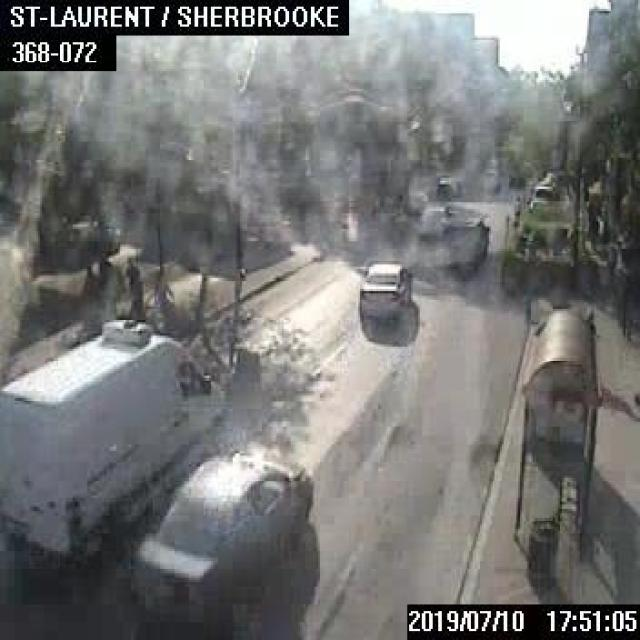pedestrian: (152, 268, 172, 314), (82, 260, 98, 308), (128, 267, 144, 314), (96, 252, 112, 296)
vehicle: (0, 314, 224, 556), (127, 447, 311, 622), (440, 214, 488, 272), (358, 261, 411, 313), (418, 205, 448, 236), (526, 184, 553, 207), (121, 257, 136, 288), (434, 174, 452, 196)
